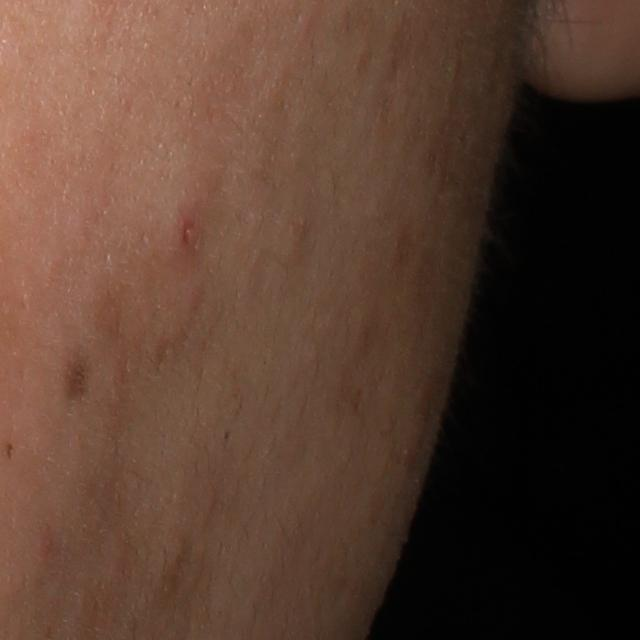nevus: (63, 339, 102, 412)
papule: (168, 198, 209, 257)
